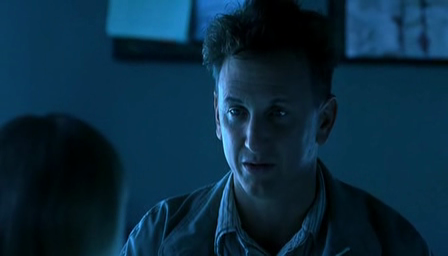cu: (1, 1, 448, 256)
face: (217, 71, 306, 200)
ots: (1, 110, 128, 256)
person: (118, 1, 431, 256)
